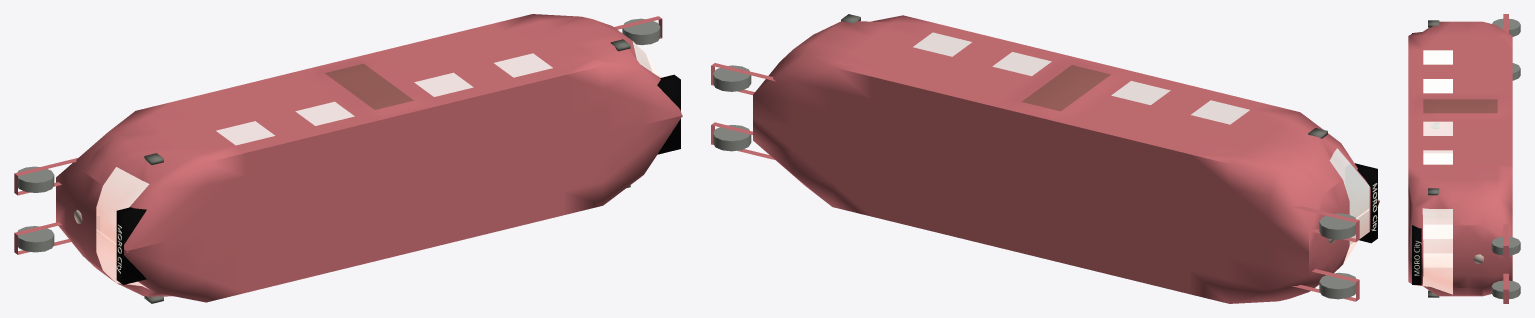
The model's file is asset8.glb.
3 renders of one model, left to right at view 1: azimuth 30°, elevation 25°; view 2: azimuth 150°, elevation 25°; view 3: azimuth 270°, elevation 25°, orthographic. The views are drawn at different scales.
Parts seen in each view (by area): view 1: Cube1, Cube1_sep12, Cube1_sep3, Cube1_sep2, Cube1_copy33, Cube13, Cube1_sep4, Cube13_sep26; view 2: Cube1, Cube1_sep12, Cube1_sep3, Cube1_sep2, Cube1_copy33, Cube1_sep4, Cube13; view 3: Cube1_sep12, Cube1, Cube1_sep2, Cube1_sep4, Cube13_sep26, Cube1_copy33, Cube1_sep3, Cube13_copy28, Cube13_copy30.
Part boxes in pixels (x1=…): Cube1: x1=56, y1=62, x2=404, y2=252; Cube1_sep12: x1=334, y1=14, x2=682, y2=182; Cube1_sep3: x1=56, y1=181, x2=404, y2=302; Cube1_sep2: x1=404, y1=115, x2=682, y2=253; Cube1_copy33: x1=14, y1=157, x2=99, y2=254; Cube13: x1=116, y1=207, x2=146, y2=284; Cube1_sep4: x1=614, y1=16, x2=662, y2=77; Cube13_sep26: x1=657, y1=74, x2=680, y2=154; Cube1: x1=1031, y1=64, x2=1379, y2=252; Cube1_sep12: x1=753, y1=15, x2=1101, y2=184; Cube1_sep3: x1=1031, y1=185, x2=1379, y2=303; Cube1_sep2: x1=753, y1=117, x2=1031, y2=255; Cube1_copy33: x1=1291, y1=206, x2=1359, y2=301; Cube1_sep4: x1=711, y1=63, x2=775, y2=160; Cube13: x1=1346, y1=163, x2=1377, y2=243; Cube1_sep12: x1=1408, y1=106, x2=1512, y2=259; Cube1: x1=1408, y1=21, x2=1512, y2=107; Cube1_sep2: x1=1408, y1=212, x2=1512, y2=296; Cube1_sep4: x1=1491, y1=222, x2=1520, y2=303; Cube13_sep26: x1=1412, y1=225, x2=1421, y2=284; Cube1_copy33: x1=1492, y1=14, x2=1520, y2=80; Cube1_sep3: x1=1423, y1=122, x2=1452, y2=210; Cube13_copy28: x1=1428, y1=20, x2=1439, y2=195; Cube13_copy30: x1=1428, y1=123, x2=1439, y2=297.
Bounding box in the file's own units: 1 × 0.2118 × 0.2048.
